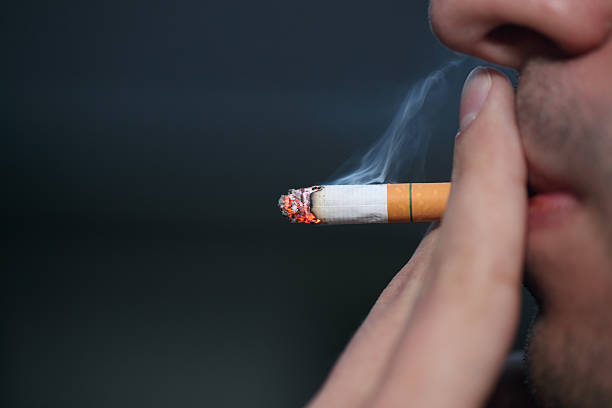cigarette: (276, 182, 455, 224)
